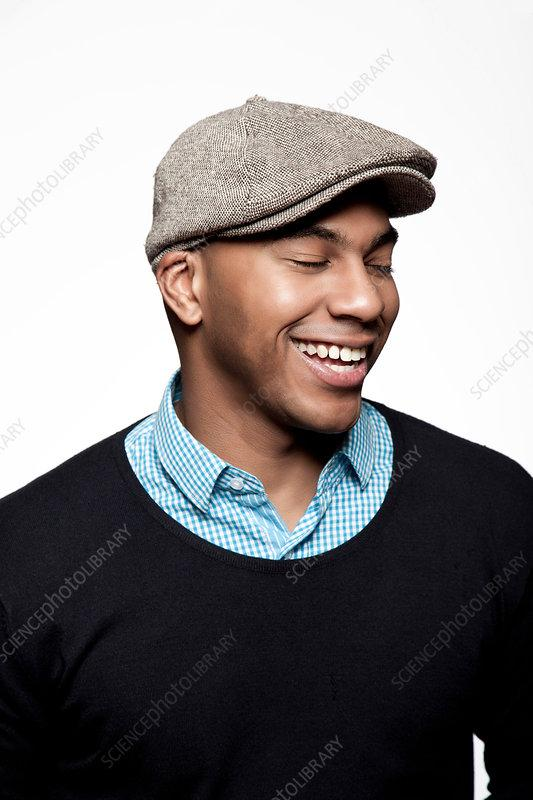cap: (134, 70, 454, 272)
